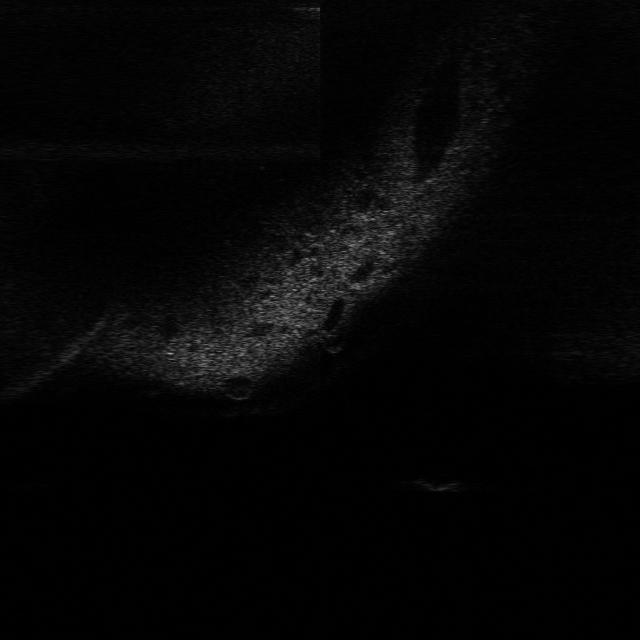ball: (320, 328, 350, 357)
cube: (404, 472, 466, 496)
